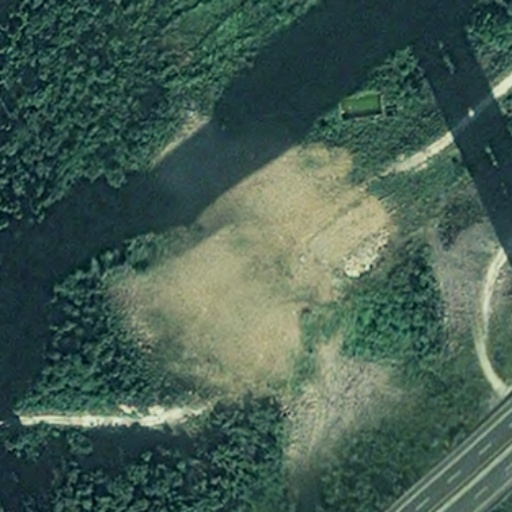landslide: (159, 150, 389, 402)
